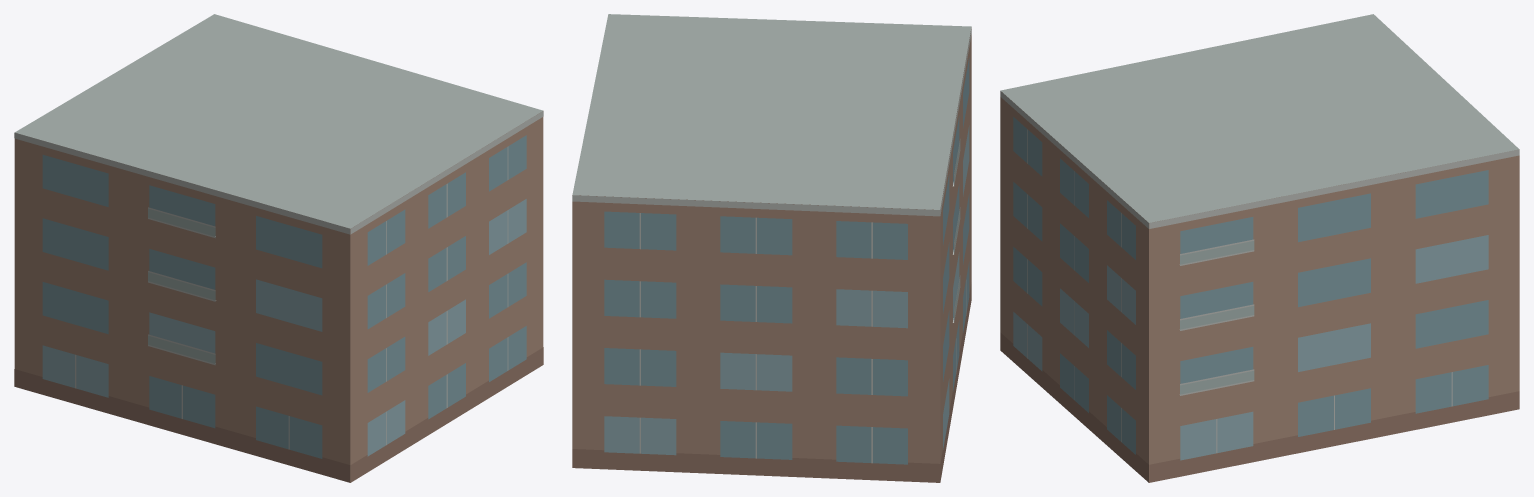
The model's file is survey-upis-32970640.glb.
3 views of the same model, side by side, from view 1: azimuth 30°, elevation 25°; view 2: azimuth 150°, elevation 25°; view 3: azimuth 270°, elevation 25° (orthographic). The views are drawn at different scales.
Visible parts, largest first — view 1: survey-upis-32970640.tmp; view 2: survey-upis-32970640.tmp; view 3: survey-upis-32970640.tmp.
Boxes of the visible parts, <box> form: survey-upis-32970640.tmp: <box>14,14,543,482</box>; survey-upis-32970640.tmp: <box>572,14,971,482</box>; survey-upis-32970640.tmp: <box>1000,14,1519,482</box>.
Bounding box in the file's own units: 17.95 × 10.4 × 18.85.
